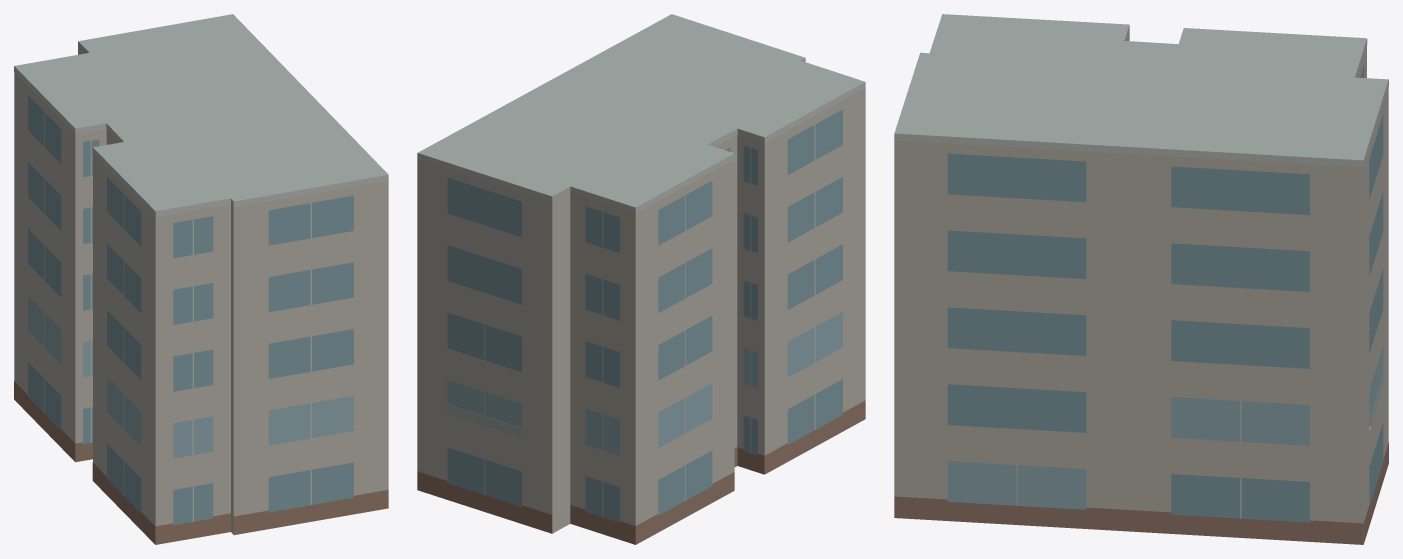
File: survey-upis-32838303.glb
3 renders of one model, left to right at view 1: azimuth 30°, elevation 25°; view 2: azimuth 150°, elevation 25°; view 3: azimuth 270°, elevation 25°, orthographic. The views are drawn at different scales.
Visible parts, largest first — view 1: survey-upis-32838303.tmp; view 2: survey-upis-32838303.tmp; view 3: survey-upis-32838303.tmp.
Part boxes in pixels (<box>): survey-upis-32838303.tmp: <box>14,14,388,544</box>; survey-upis-32838303.tmp: <box>417,14,865,544</box>; survey-upis-32838303.tmp: <box>894,14,1388,544</box>.
Size of the model in its own units: 11.12 by 13.6 by 15.86.
